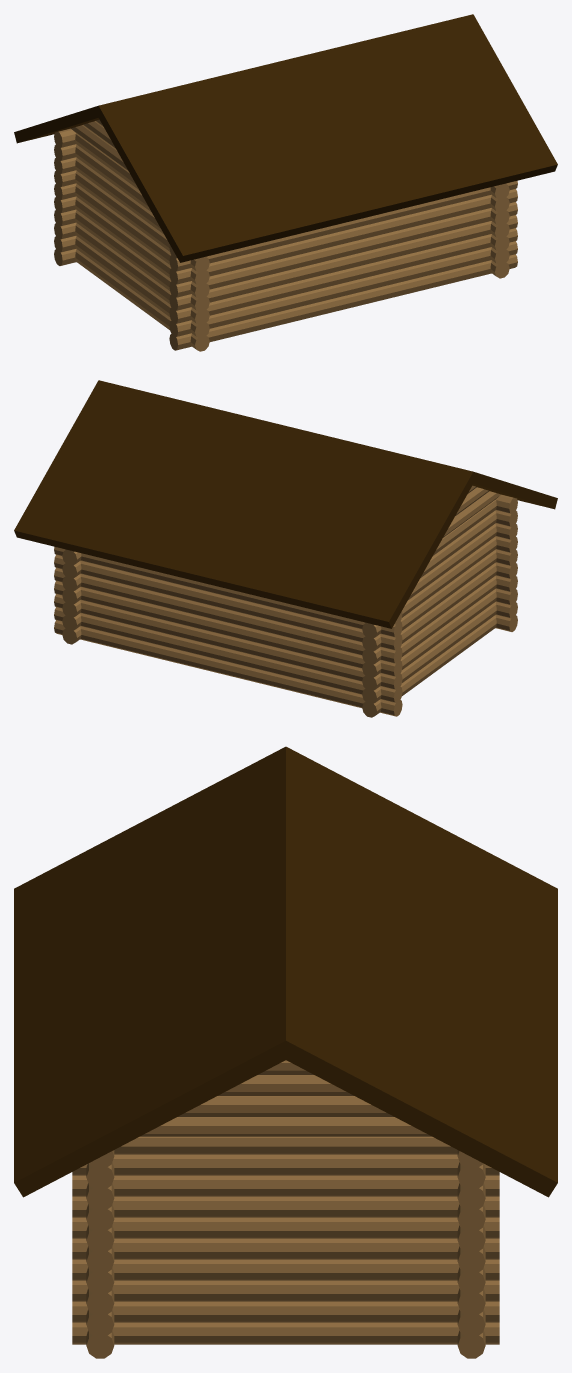
File: SmallLogCabin.fbx
3 views of the same model, one above another, from view 1: azimuth 30°, elevation 25°; view 2: azimuth 150°, elevation 25°; view 3: azimuth 270°, elevation 25° (orthographic). The views are drawn at different scales.
Parts seen in each view (by area): view 1: Roof, NorthWall, EastWall, SouthWall, WestWall, WallLog1; view 2: Roof, SouthWall, EastWall, NorthWall, WestWall, WallLog1; view 3: Roof, WestWall, NorthWall, SouthWall, WallLog1, WallLog2, WallLog3.
Part boxes in pixels (left/top/right/bottom): Roof: left=14, top=14, right=557, bottom=262; NorthWall: left=169, top=180, right=517, bottom=350; EastWall: left=75, top=133, right=209, bottom=351; SouthWall: left=54, top=128, right=76, bottom=265; WestWall: left=490, top=183, right=509, bottom=278; WallLog1: left=71, top=125, right=128, bottom=171; Roof: left=14, top=380, right=557, bottom=628; SouthWall: left=54, top=546, right=402, bottom=716; EastWall: left=362, top=499, right=496, bottom=717; NorthWall: left=495, top=494, right=517, bottom=631; WestWall: left=62, top=549, right=81, bottom=644; WallLog1: left=443, top=491, right=500, bottom=537; Roof: left=14, top=746, right=557, bottom=1197; WestWall: left=72, top=1136, right=499, bottom=1344; NorthWall: left=86, top=1150, right=114, bottom=1358; SouthWall: left=457, top=1150, right=485, bottom=1358; WallLog1: left=140, top=1117, right=431, bottom=1136; WallLog2: left=178, top=1096, right=393, bottom=1116; WallLog3: left=218, top=1075, right=353, bottom=1095.
Size of the model in its own units: 7.5 by 3.94 by 5.86.
